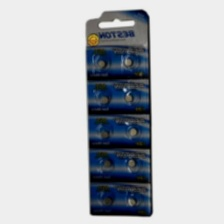book: (97, 128, 111, 141), (126, 195, 139, 209), (98, 94, 111, 107), (101, 157, 113, 170), (94, 59, 107, 70), (123, 56, 134, 69), (123, 92, 134, 104), (126, 127, 138, 138), (125, 158, 137, 169), (102, 197, 113, 208)
